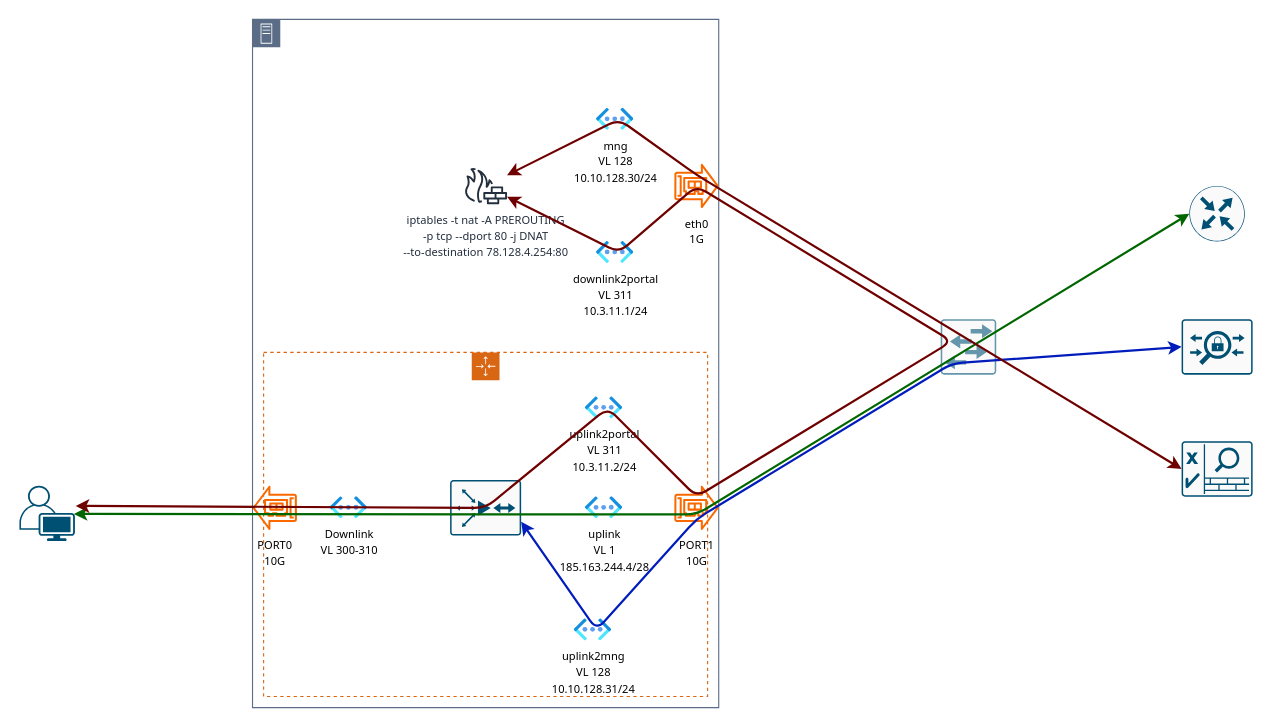
Some shapes in this 1280 by 727 pixel diagram are drawn without their labels. Here are the shapes that lost their labels. From the top down, the box of each, then its label:
(1188, 185, 1245, 241): BGP VL 1 185.163.244.1/28
(251, 18, 719, 708): Linux
(1180, 318, 1253, 375): DHCP & RADUIS VL 128 10.10.128.10
(1180, 440, 1253, 497): CAPTIVE PORTAL VL ??? 78.128.4.254
(263, 351, 708, 697): BR-Master DPDK
